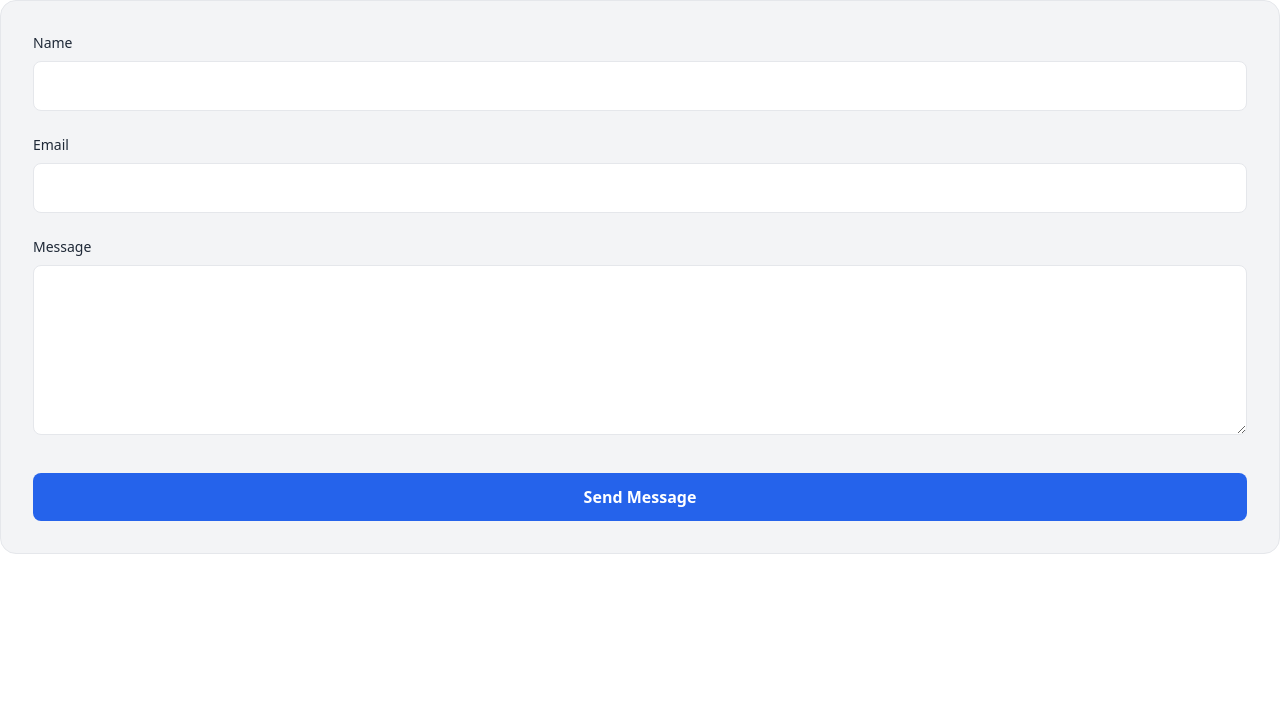
Test: shows success message after a valid submission
In the field labelled "Name": (640, 86) [33,61,1247,111], type "Jane Doe"
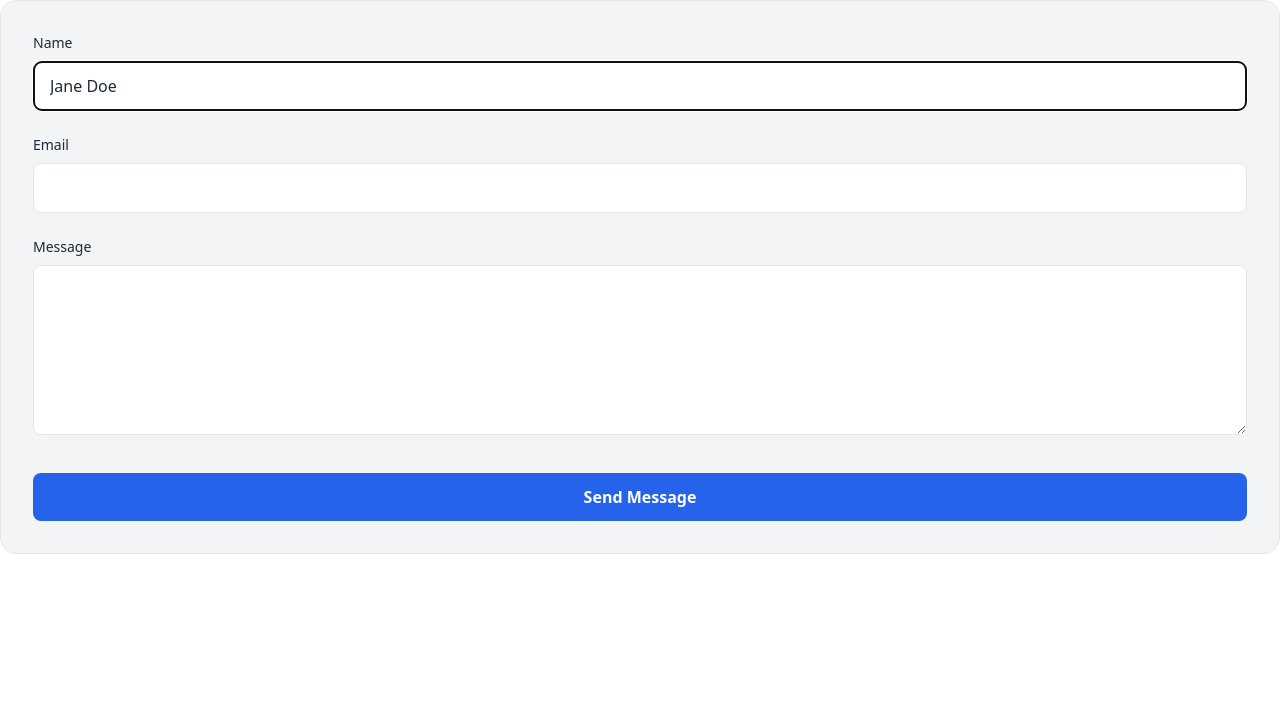
In the field labelled "Email": (640, 188) [33,163,1247,213], type "jane@example.com"
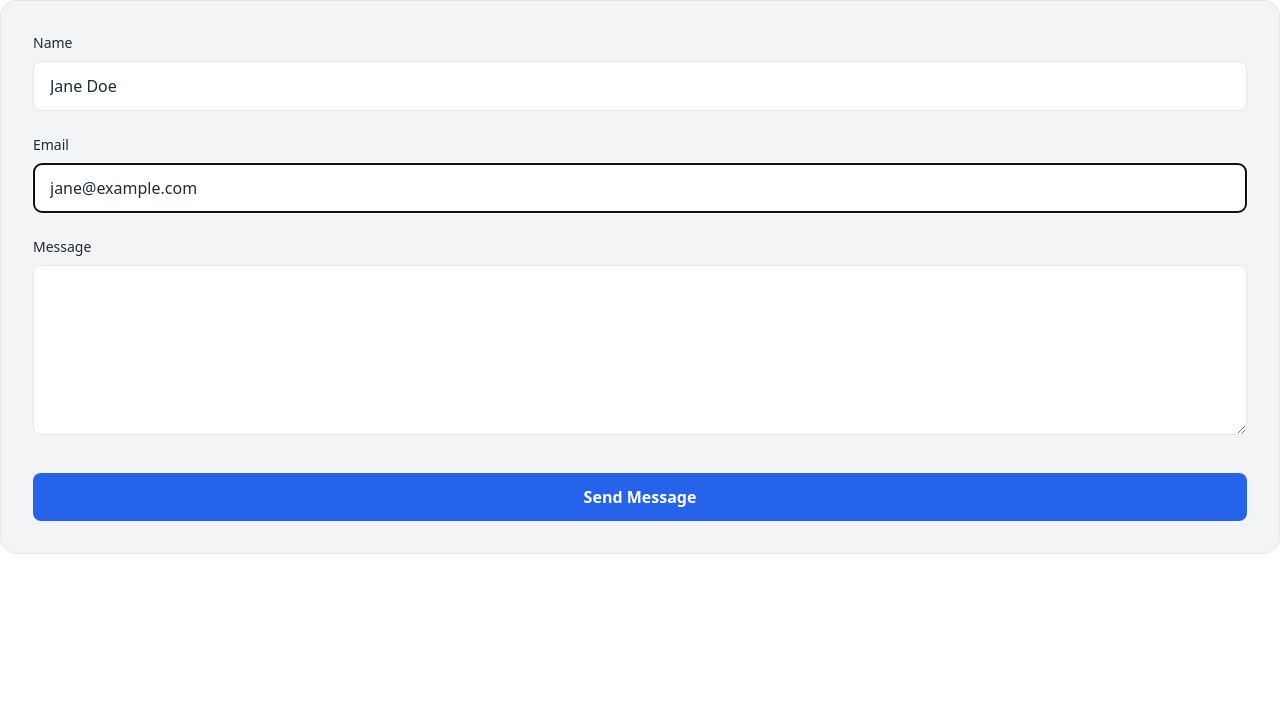
In the text box labelled "Message": (640, 350) [33,265,1247,435], type "Hello, I would like to work with you."
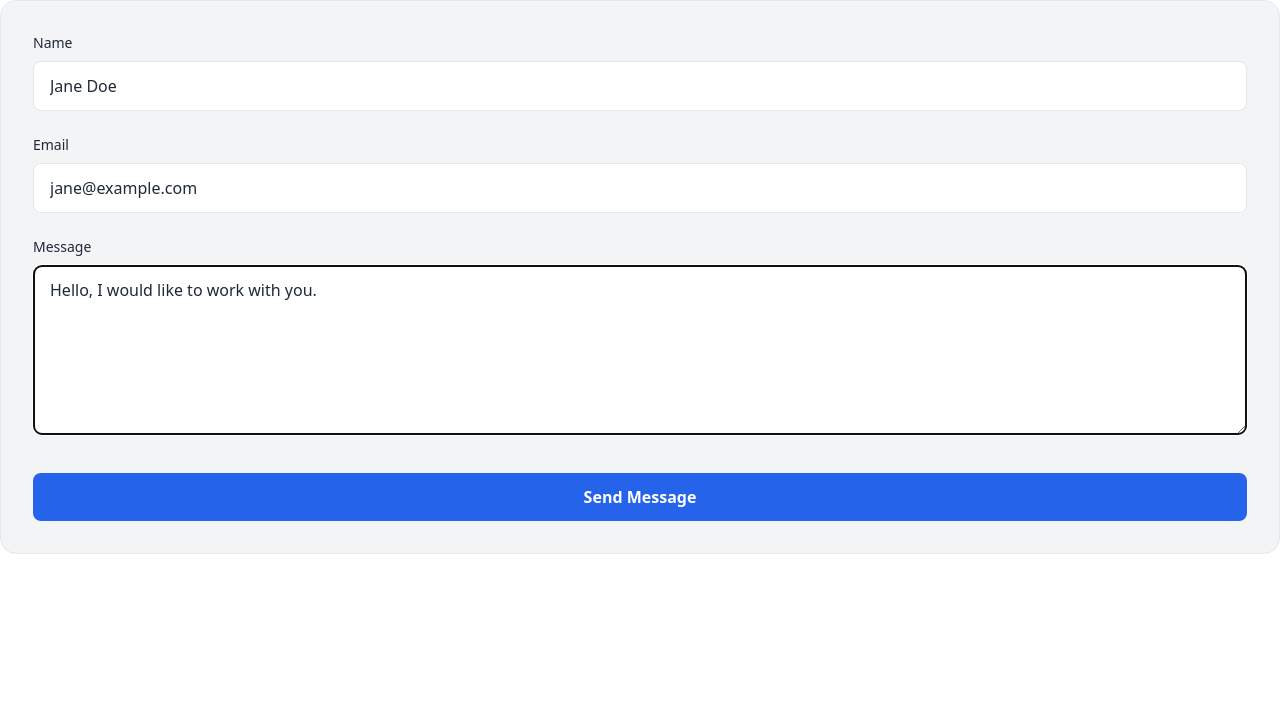
Click the button "Send Message": (640, 497) [33,473,1247,521]
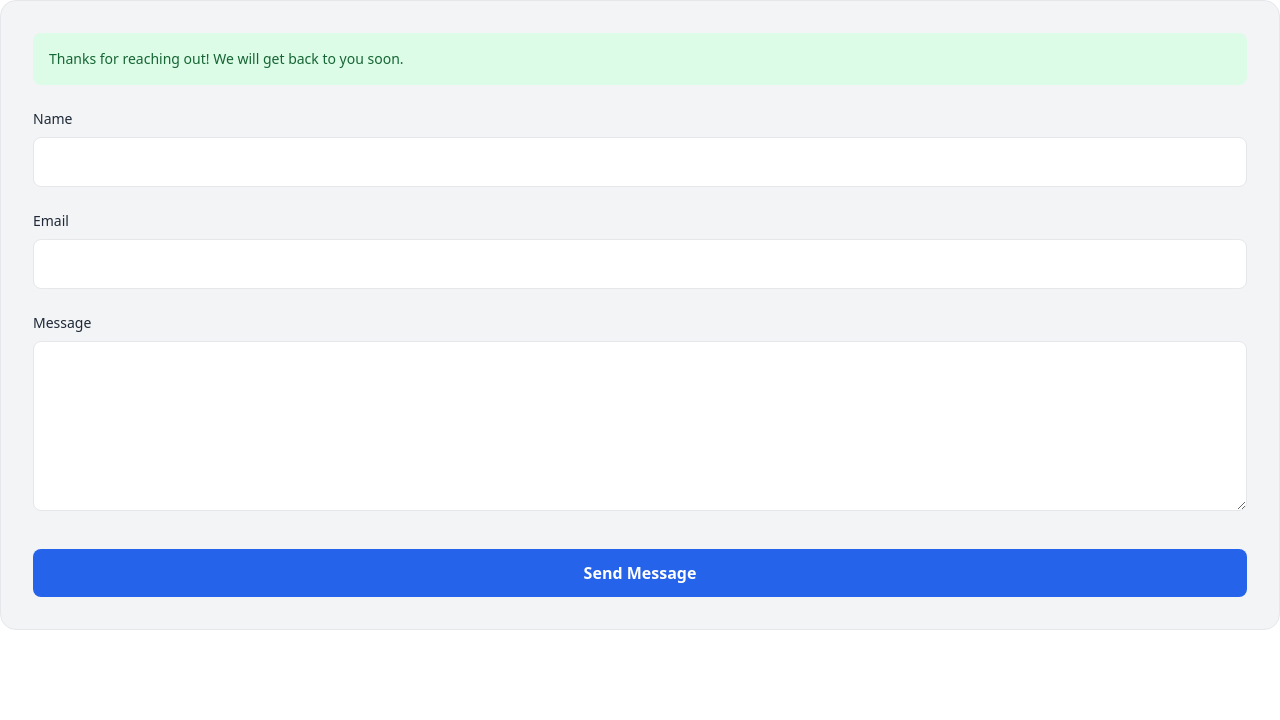
Expected: the message reads "Thanks for reaching out! We will get back to you soon.", [49,49,404,68]
